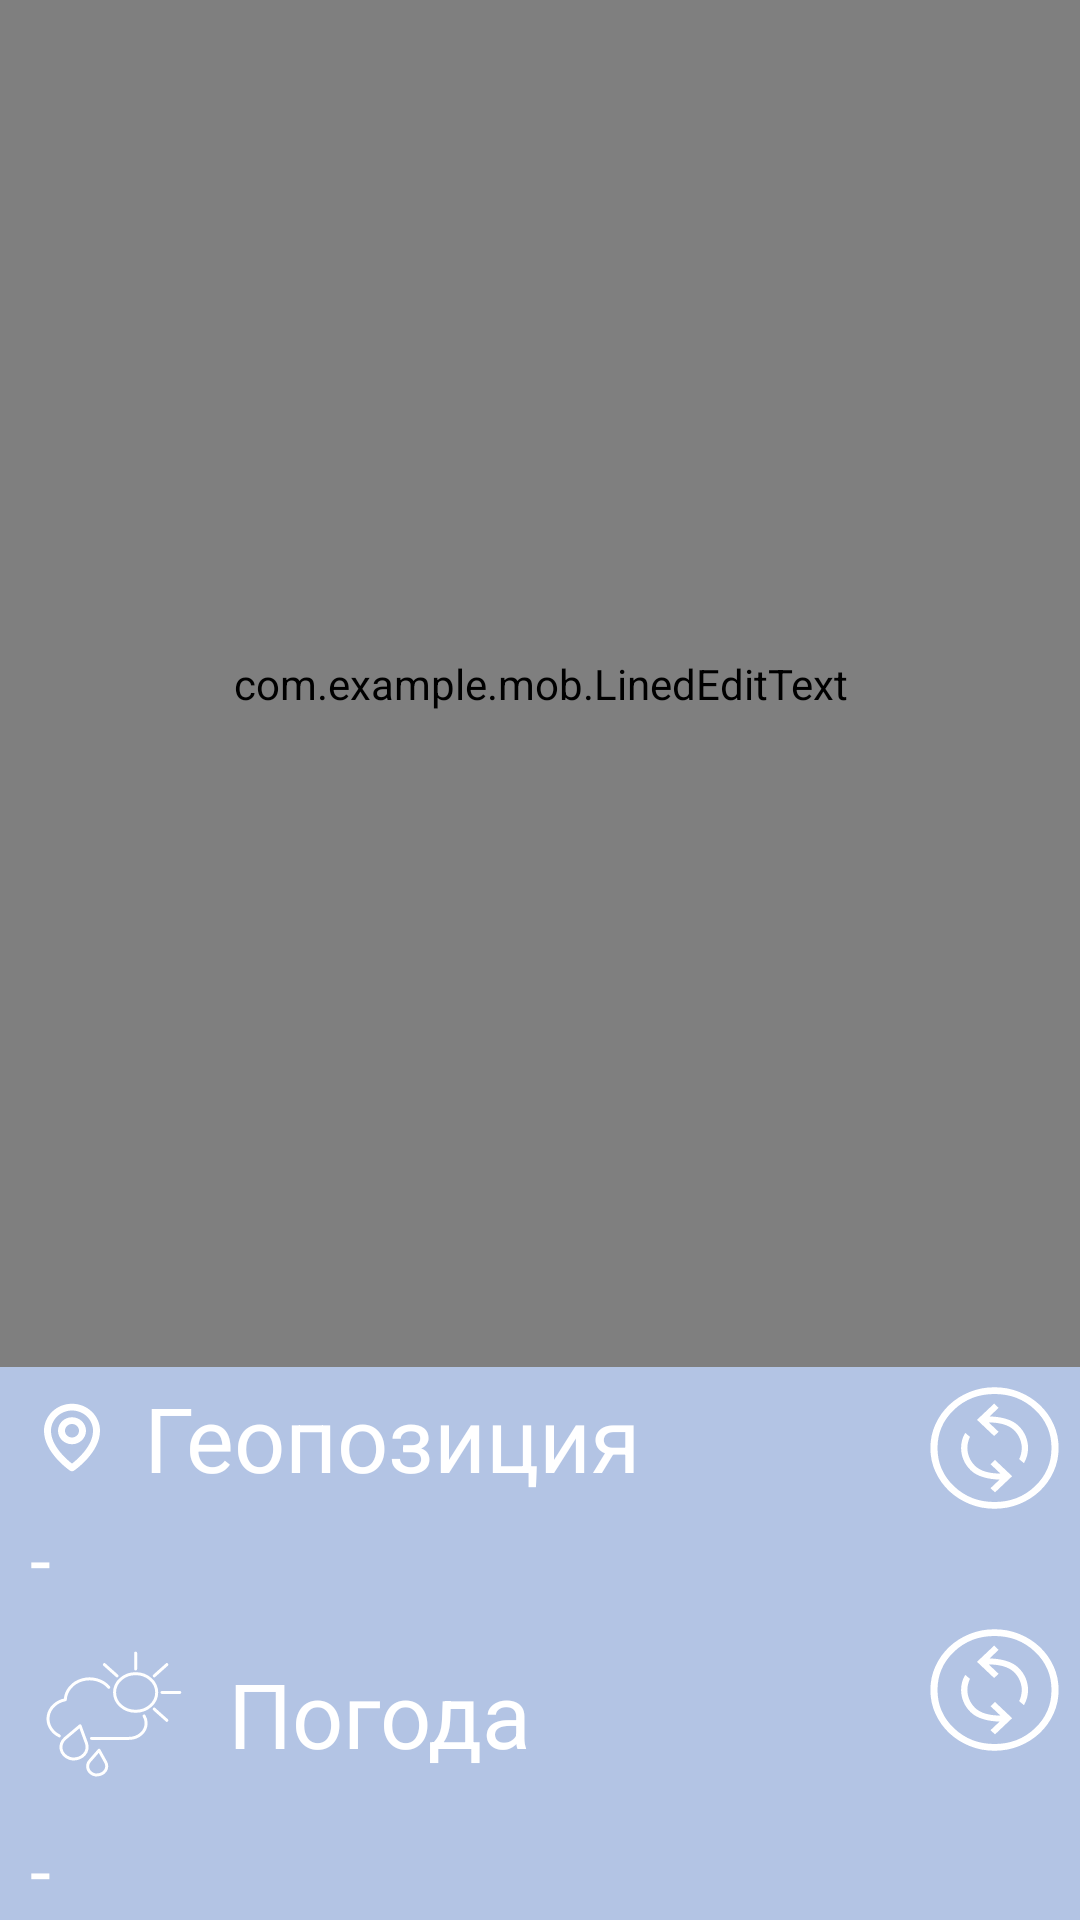

Icons on this 1080*1920 Android screen, each with its box as (x1, y1, x2, y2):
note map: (44, 1404, 100, 1471)
note weather: (46, 1652, 181, 1777)
